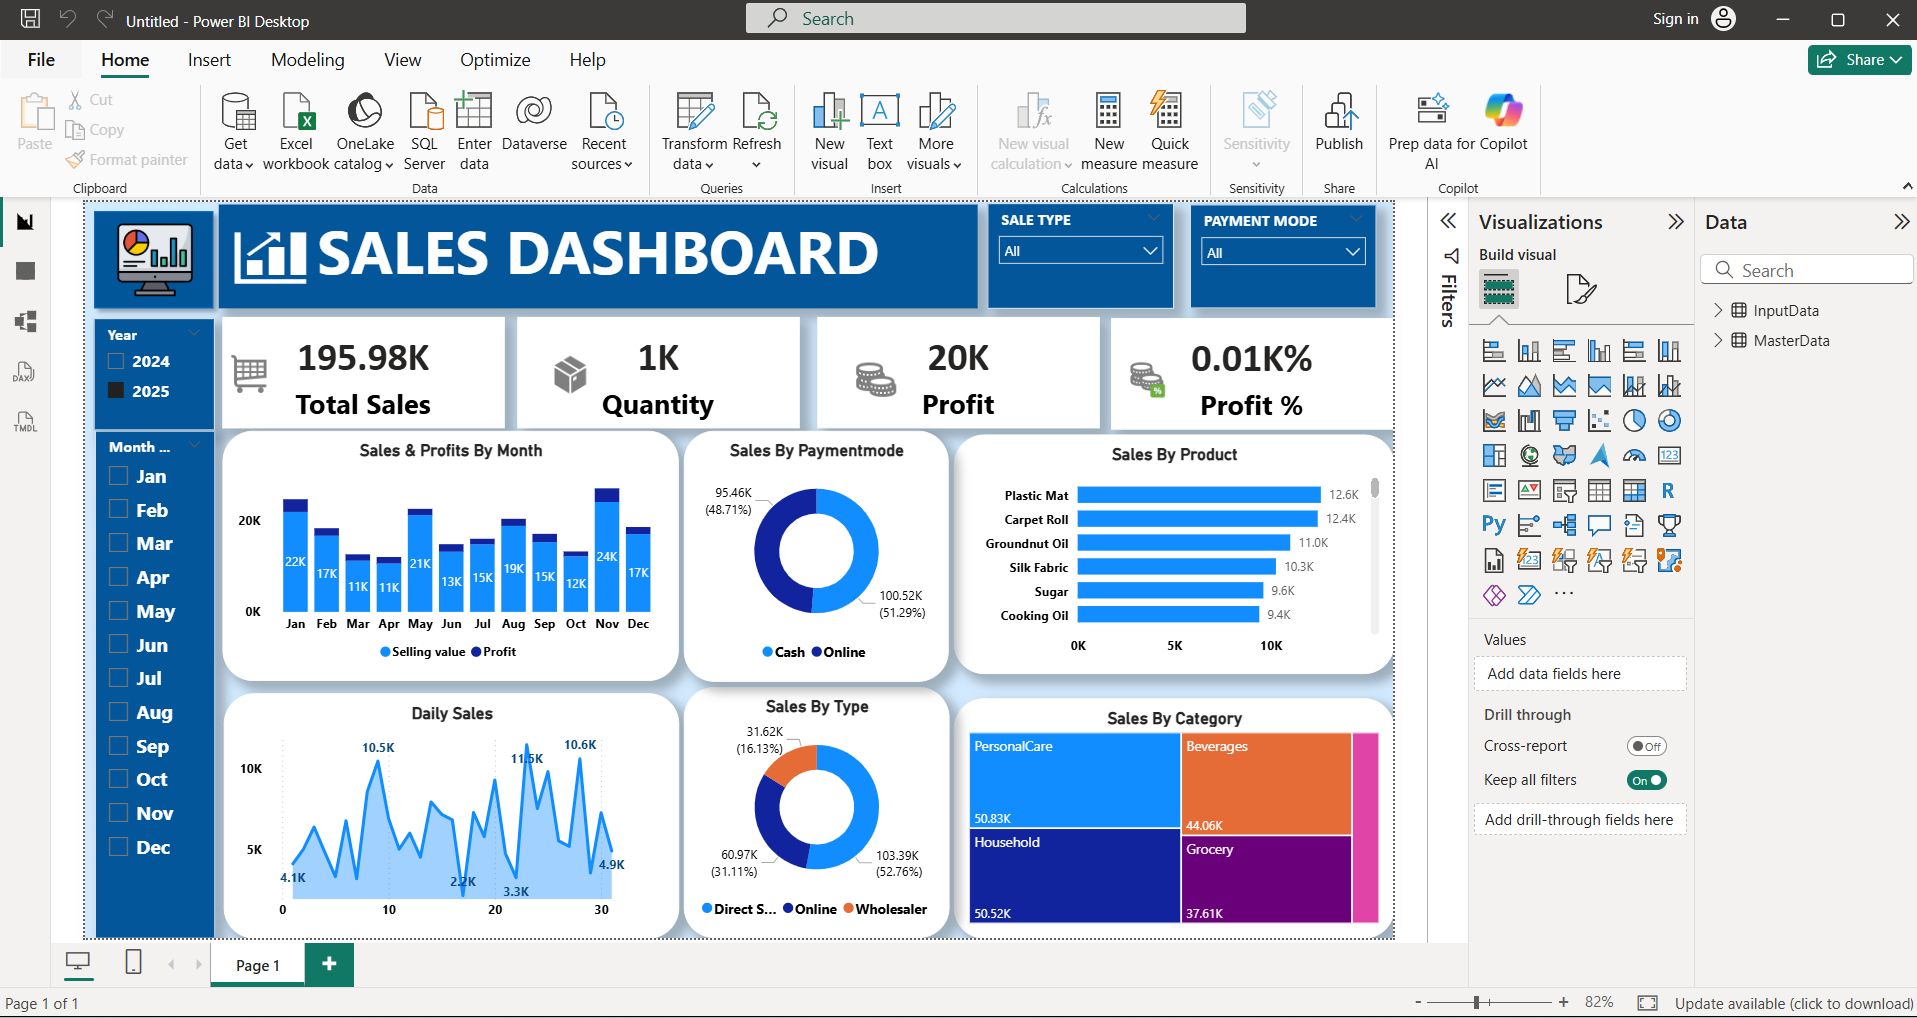

This screenshot's page, from the dashboard's own definition file:
{"tool":"powerbi","page":{"name":"Page 1","canvas":[1280,720],"ordinal":0},"visuals":[{"type":"shape","box":[0,0,134.5,113],"z":0},{"type":"textbox","box":[130.4,2.7,742.4,101.5],"z":1000},{"type":"image","box":[127.2,1.2,107.6,107.6],"z":2000},{"type":"slicer","fields":{"Values":["InputData.Year"]},"box":[8.2,113.9,118,109.8],"z":3000},{"type":"slicer","fields":{"Values":["InputData.Month Name"]},"box":[9.8,223.8,117.4,496.5],"z":4000},{"type":"slicer","fields":{"Values":["InputData.SALE TYPE"]},"box":[882.3,1.1,182.5,102.9],"z":5000},{"type":"slicer","fields":{"Values":["InputData.PAYMENT MODE"]},"box":[1081.3,2.5,182.5,101.5],"z":6000},{"type":"card","fields":{"Values":["Sum(InputData.Tot Selling value)"]},"box":[134.5,112.5,275.8,108.4],"z":7000},{"type":"card","fields":{"Values":["Sum(InputData.QUANTITY)"]},"box":[422.6,112.5,275.8,108.4],"z":8000},{"type":"card","fields":{"Values":["InputData.Profit"]},"box":[716.3,112.5,275.8,108.4],"z":9000},{"type":"card","fields":{"Values":["InputData.Profit %"]},"box":[1004.5,113.9,275.8,108.4],"z":10000},{"type":"image","box":[134.5,118,54.9,98.8],"z":11000},{"type":"image","box":[447.3,131.7,54.9,74.1],"z":12000},{"type":"image","box":[746.5,118,54.9,109.8],"z":13000},{"type":"image","box":[1015.4,130.4,49.4,86.4],"z":14000},{"type":"columnChart","title":"Sales & Profits By Month","fields":{"Category":["InputData.Month Name"],"Y":["Sum(InputData.Tot Selling value)","InputData.Profit"]},"box":[134.5,223.7,446,245],"z":15000},{"type":"areaChart","title":"Daily Sales","fields":{"Category":["InputData.Day"],"Y":["Sum(InputData.Tot Selling value)"]},"box":[135.8,480.3,446,240.1],"z":16000},{"type":"clusteredBarChart","title":"Sales By Product","fields":{"Y":["Sum(InputData.Tot Selling value)"],"Category":["InputData.MasterData.PRODUCT"]},"box":[849.4,227.8,430.9,234.6],"z":17000},{"type":"treemap","title":"Sales By Category","fields":{"Group":["InputData.MasterData.CATEGORY"],"Values":["Sum(InputData.Tot Selling value)"]},"box":[849.4,485.8,431,235],"z":18000},{"type":"donutChart","title":"Sales By Type","fields":{"Y":["Sum(InputData.Tot Selling value)"],"Category":["InputData.SALE TYPE"]},"box":[585.9,474.8,260,245.6],"z":19000},{"type":"donutChart","title":"Sales By Paymentmode","fields":{"Y":["Sum(InputData.Tot Selling value)"],"Category":["InputData.PAYMENT MODE"]},"box":[585.9,223.7,259.3,245.6],"z":20000},{"type":"image","box":[8.2,13.7,120.8,86.4],"z":20001}]}

Visuals, with their boxes on the page's 1280x720 design canvas (x1, y1, x2, y2). These are canvas units, not pixel positions in the 1917x1018 screenshot, which may show the page scaled, cropped or inside an application window:
shape: 0:0:134:113
textbox: 130:3:873:104
image: 127:1:235:109
slicer - InputData.Year: 8:114:126:224
slicer - InputData.Month Name: 10:224:127:720
slicer - InputData.SALE TYPE: 882:1:1065:104
slicer - InputData.PAYMENT MODE: 1081:2:1264:104
card - Sum(InputData.Tot Selling value): 134:112:410:221
card - Sum(InputData.QUANTITY): 423:112:698:221
card - InputData.Profit: 716:112:992:221
card - InputData.Profit %: 1004:114:1280:222
image: 134:118:189:217
image: 447:132:502:206
image: 746:118:801:228
image: 1015:130:1065:217
"Sales & Profits By Month" columnChart: 134:224:580:469
"Daily Sales" areaChart: 136:480:582:720
"Sales By Product" clusteredBarChart: 849:228:1280:462
"Sales By Category" treemap: 849:486:1280:721
"Sales By Type" donutChart: 586:475:846:720
"Sales By Paymentmode" donutChart: 586:224:845:469
image: 8:14:129:100
